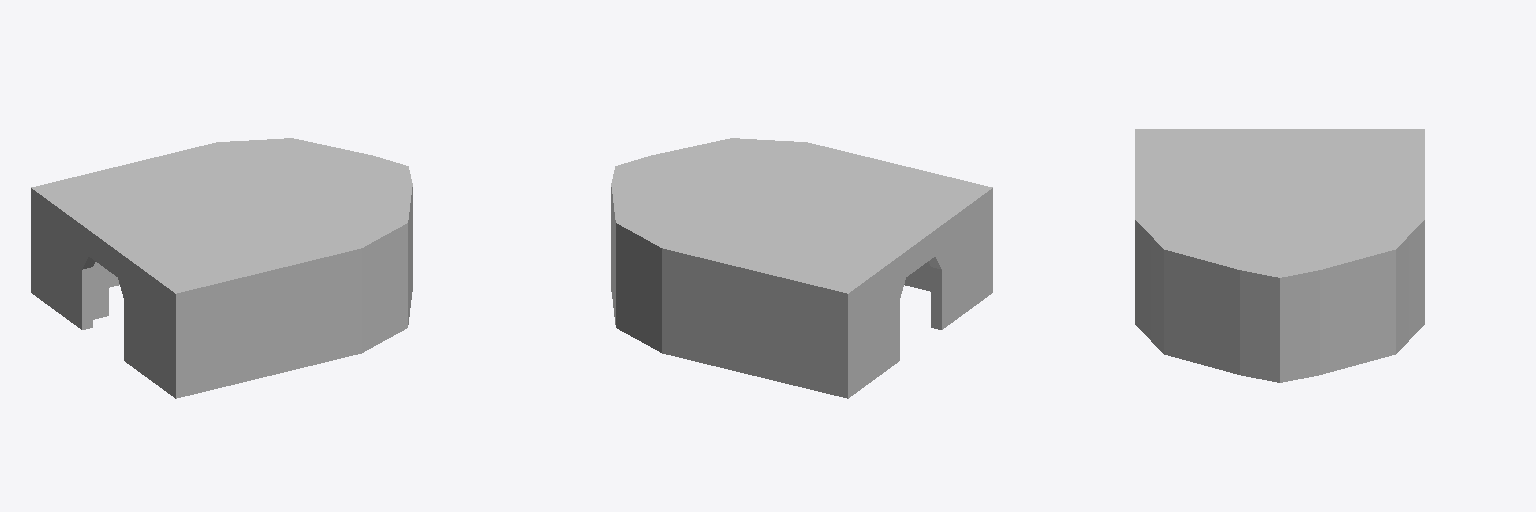
The model's file is CapQuarters.obj.
3 renders of one model, left to right at view 1: azimuth 30°, elevation 25°; view 2: azimuth 150°, elevation 25°; view 3: azimuth 270°, elevation 25°, orthographic.
Size of the model in its own units: 12.17 by 4 by 10.